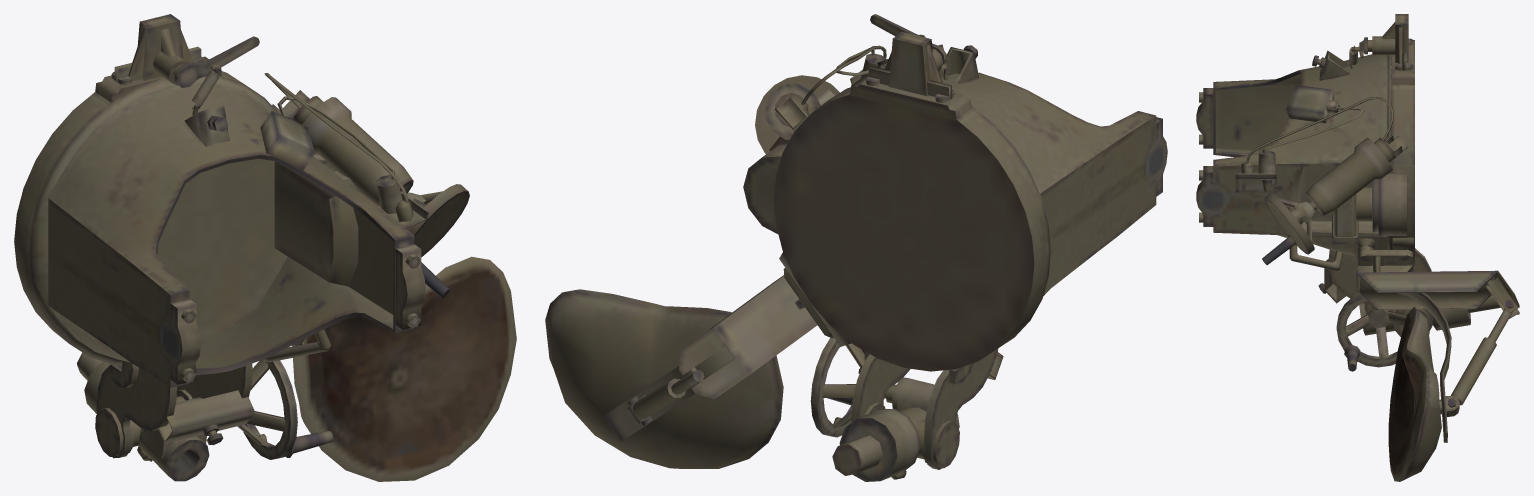
The model's file is Turret_01.glb.
3 views of the same model, side by side, from view 1: azimuth 30°, elevation 25°; view 2: azimuth 150°, elevation 25°; view 3: azimuth 270°, elevation 25° (orthographic). The views are drawn at different scales.
Parts seen in each view (by area): view 1: set_0_group_0; view 2: set_0_group_0; view 3: set_0_group_0.
Boxes of the visible parts, x1=… form: set_0_group_0: x1=14, y1=14, x2=516, y2=481; set_0_group_0: x1=545, y1=14, x2=1167, y2=481; set_0_group_0: x1=1196, y1=14, x2=1519, y2=481.
Bounding box in the file's own units: 1.08 × 1.06 × 0.8462.
Materials: 1 (1 with a texture image).
